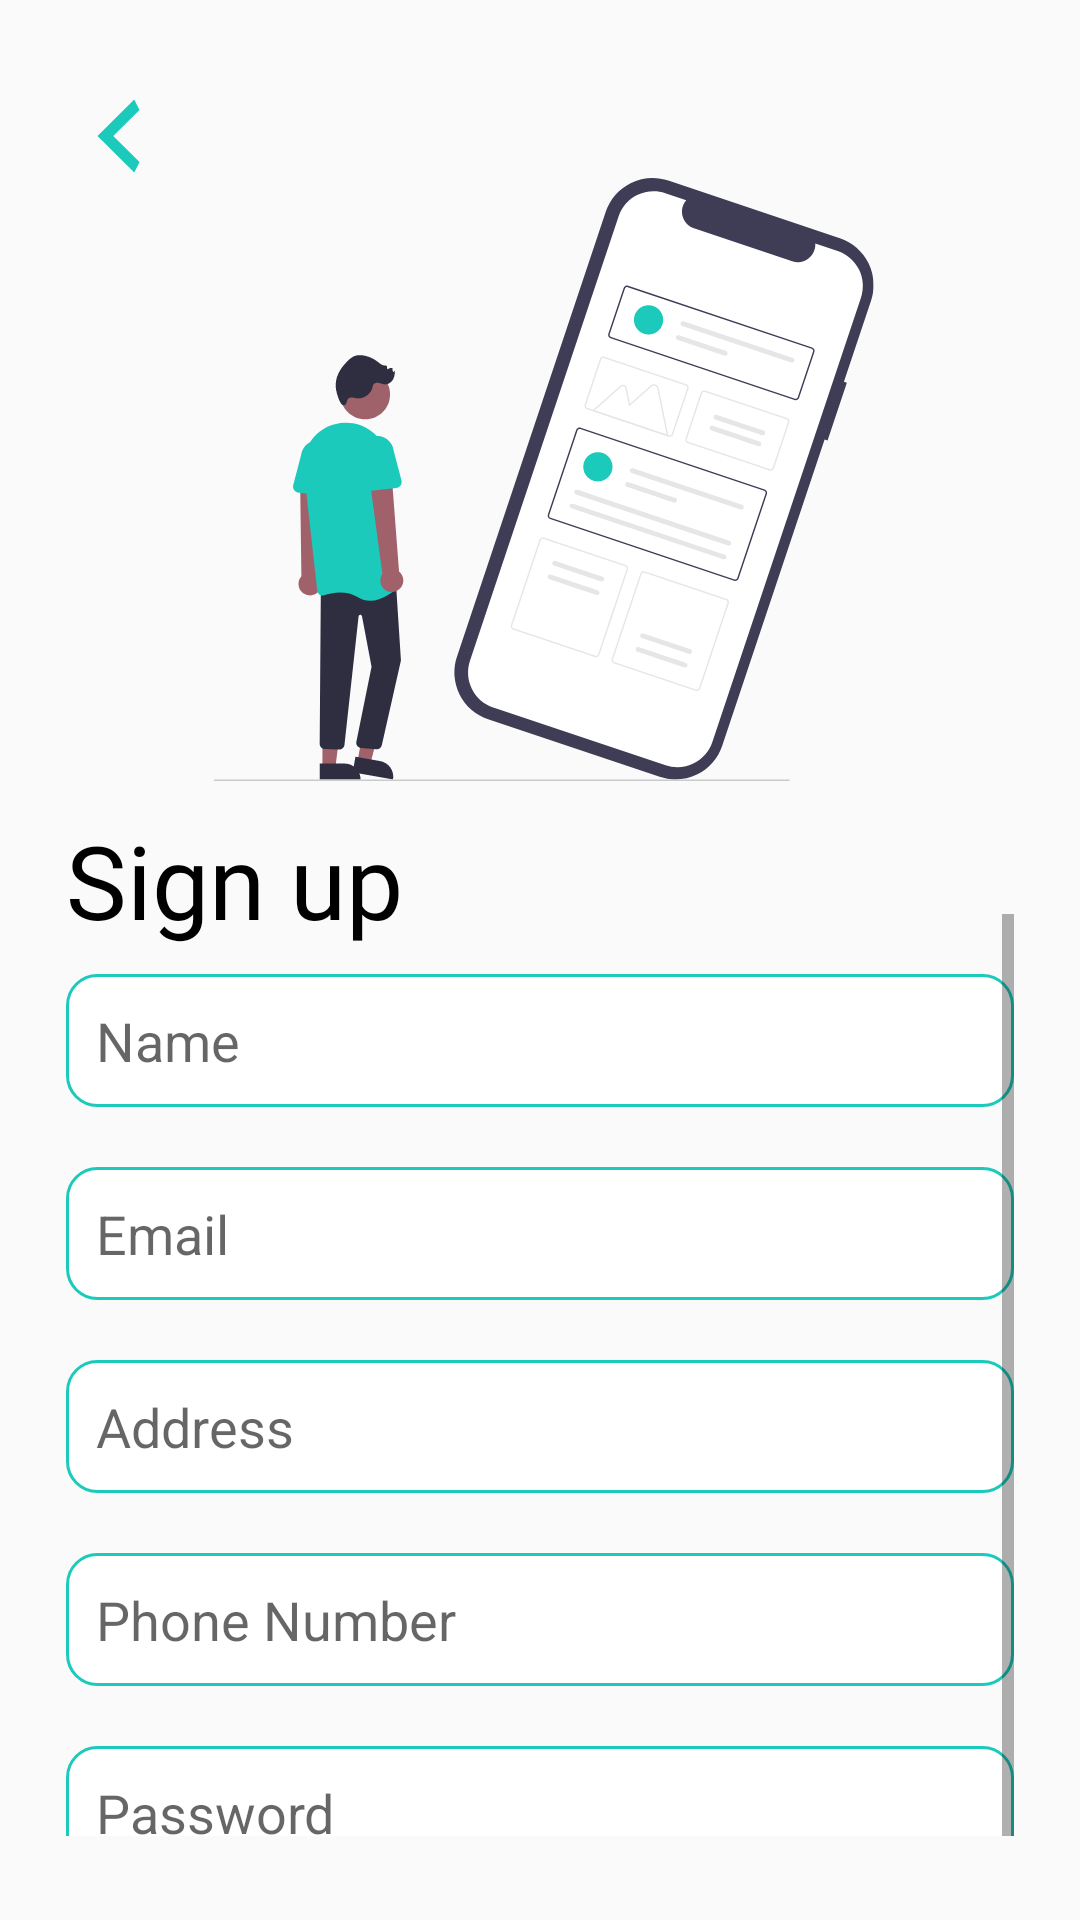

Icons on this 1080 × 1920 Android screen, each with the point to tap as point (x, y):
back: point (118, 136)
